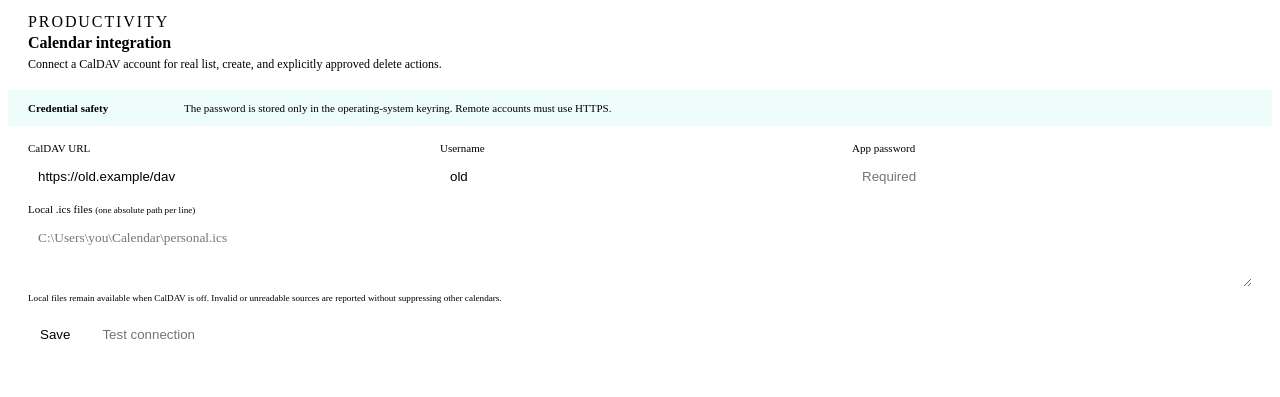
CalendarIntegrationPanel › puts the previous account back when the new password cannot be stored
Replace the text in the field labelled "CalDAV URL" with "https://new.example/dav" at (228, 176), box [28, 160, 428, 193]
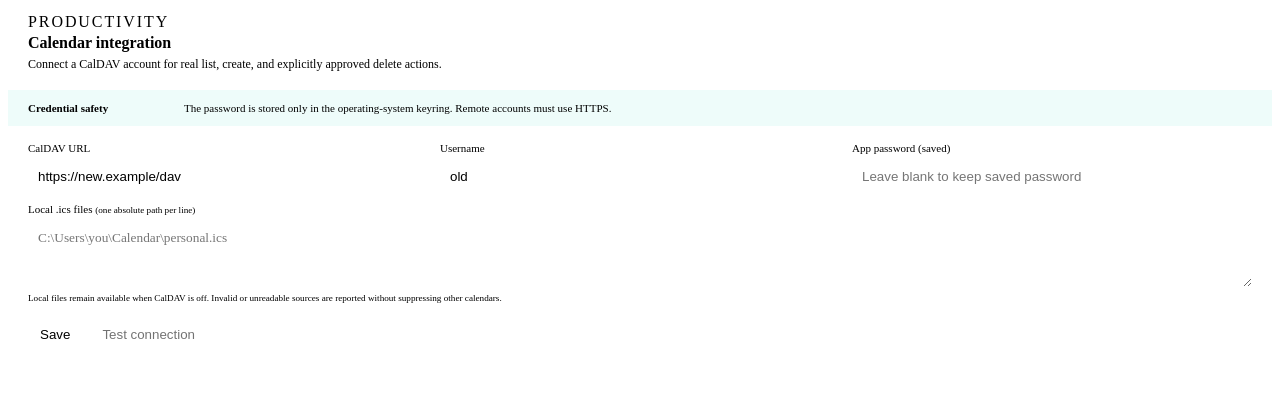
Type "new-pass" into the password field labelled "App password (saved)" at (1052, 176), box [852, 160, 1252, 193]
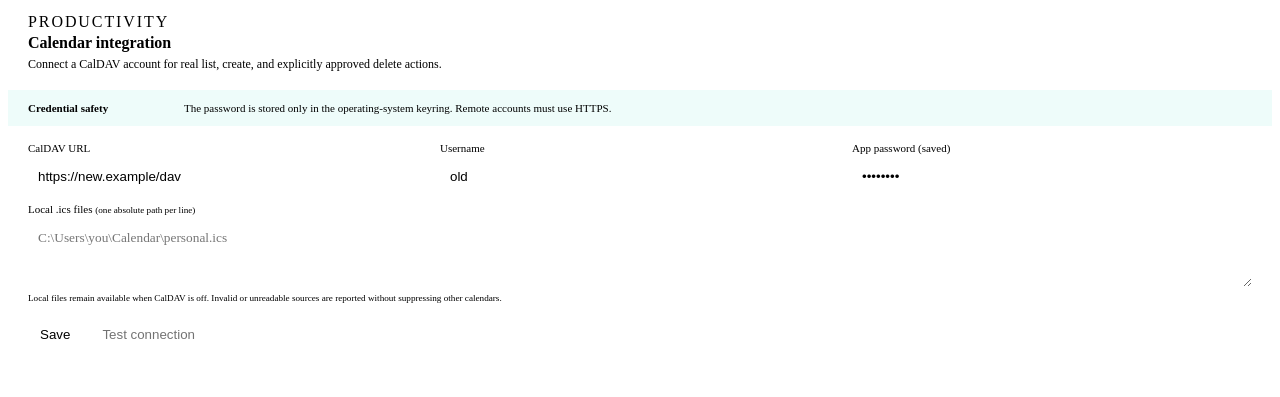
Click the button "Save" at (55, 334), box [28, 319, 82, 350]
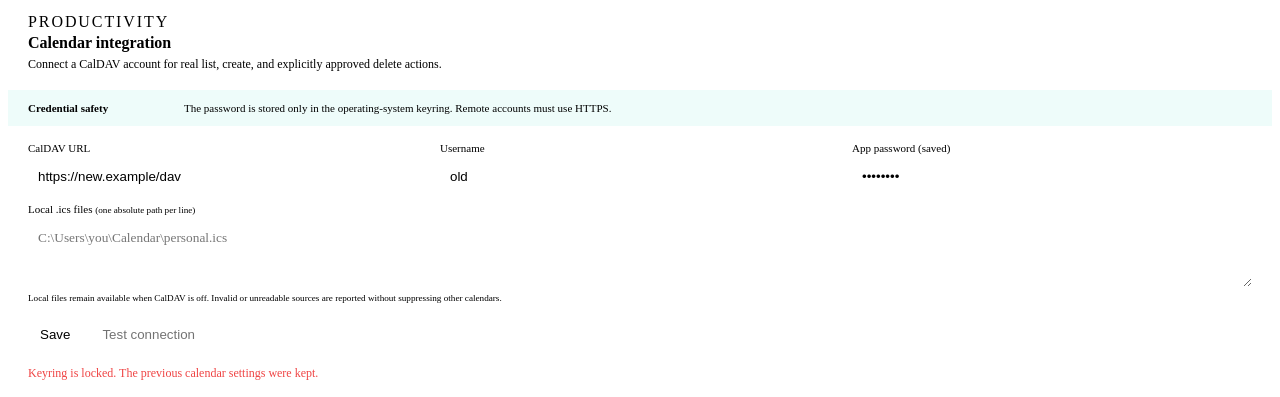
Check: the text "Keyring is locked. The previous calendar settings were kept." is shown, box [28, 366, 318, 380]
